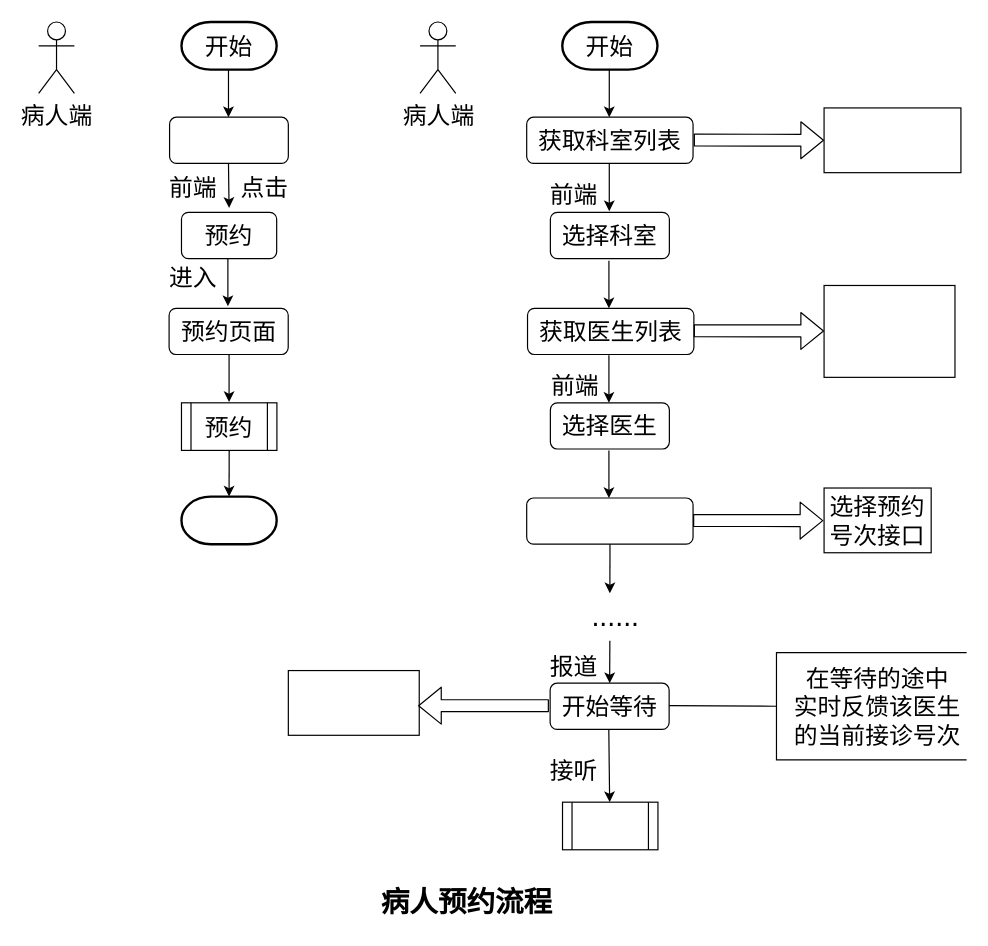
This 988x946 diagram has some shape labels left out. Each missing label, with the centre of its shape:
导航页面: the point at 228,139
结束: the point at 228,520
获得医生接诊号次接口: the point at 353,702
获得所有科室信息接口: the point at 892,140
获得该科室下所有医生信息接口: the point at 889,330
选择预约号次: the point at 609,520
问诊: the point at 609,825
